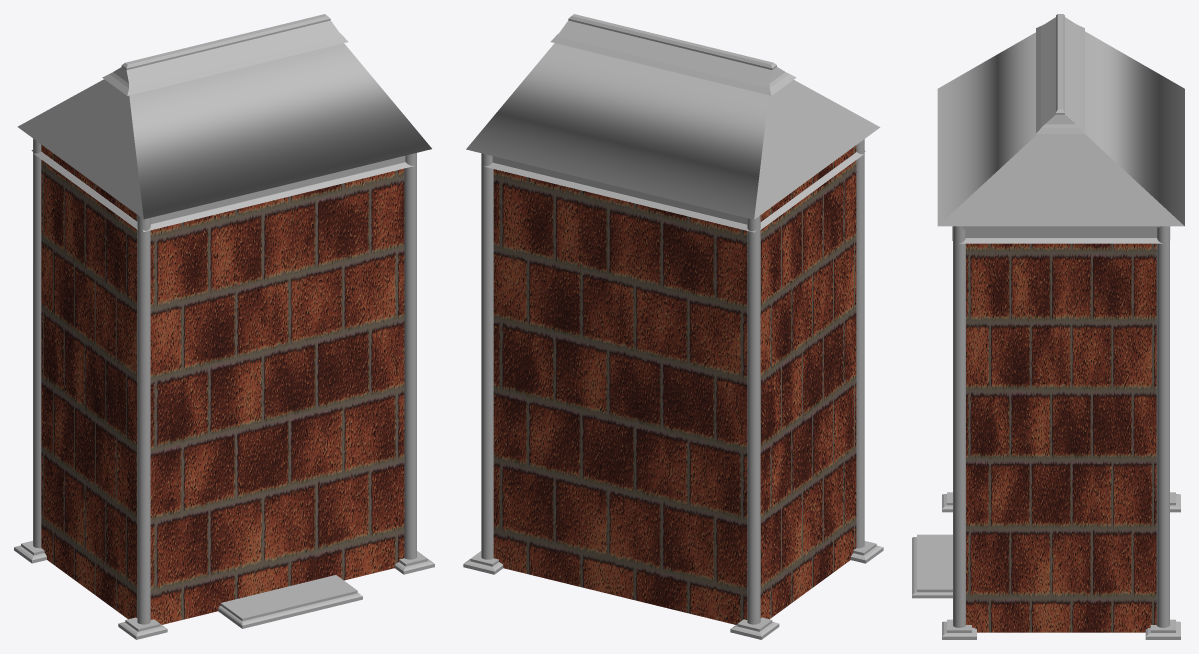
File: MSH_Bâtiment_ornementé.fbx
3 views of the same model, side by side, from view 1: azimuth 30°, elevation 25°; view 2: azimuth 150°, elevation 25°; view 3: azimuth 270°, elevation 25° (orthographic). The views are drawn at different scales.
Parts seen in each view (by area): view 1: Base_3_cases, MSH_Toit_triangulaire, MSH_Ornement_Toit, MSH_coin, MSH_coin2, MSH_Marches_portes, MSH_coin4, MSH_Frise3, MSH_Frise2, MSH_Frise4, MSH_Base_pilone_decoupee3; view 2: Base_3_cases, MSH_Toit_triangulaire, MSH_Ornement_Toit, MSH_coin4, MSH_coin3, MSH_coin, MSH_Frise8, MSH_Frise9, MSH_Frise7, MSH_Base_pilone_decoupee2; view 3: Base_3_cases, MSH_Toit_triangulaire, MSH_coin3, MSH_Ornement_Toit, MSH_coin2, MSH_Marches_portes, MSH_Frise, MSH_Frise10, MSH_Base_pilone_decoupee, MSH_Base_pilone_decoupee4.
Boxes of the visible parts, x1,y1,x2,y2 form: Base_3_cases: (41, 144, 404, 624); MSH_Toit_triangulaire: (17, 43, 431, 219); MSH_Ornement_Toit: (102, 14, 348, 95); MSH_coin: (137, 215, 150, 624); MSH_coin2: (404, 153, 416, 559); MSH_Marches_portes: (218, 575, 362, 628); MSH_coin4: (33, 138, 41, 548); MSH_Frise3: (231, 176, 323, 209); MSH_Frise2: (321, 156, 413, 187); MSH_Frise4: (142, 198, 233, 231); MSH_Base_pilone_decoupee3: (118, 617, 167, 639); Base_3_cases: (493, 145, 856, 624); MSH_Toit_triangulaire: (466, 43, 880, 219); MSH_Ornement_Toit: (550, 14, 796, 95); MSH_coin4: (747, 215, 760, 624); MSH_coin3: (481, 153, 493, 559); MSH_coin: (856, 139, 864, 548); MSH_Frise8: (574, 176, 667, 210); MSH_Frise9: (484, 156, 577, 188); MSH_Frise7: (665, 199, 756, 232); MSH_Base_pilone_decoupee2: (730, 617, 779, 639); Base_3_cases: (966, 243, 1156, 632); MSH_Toit_triangulaire: (937, 31, 1184, 226); MSH_coin3: (1156, 226, 1169, 627); MSH_Ornement_Toit: (1036, 14, 1084, 133); MSH_coin2: (953, 226, 965, 627); MSH_Marches_portes: (912, 534, 952, 598); MSH_Frise: (959, 226, 1061, 243); MSH_Frise10: (1061, 226, 1162, 243); MSH_Base_pilone_decoupee: (1145, 619, 1180, 639); MSH_Base_pilone_decoupee4: (942, 619, 976, 639).
Size of the model in its own units: 958 by 1593 by 776.
Materials: 2 (1 with a texture image).
